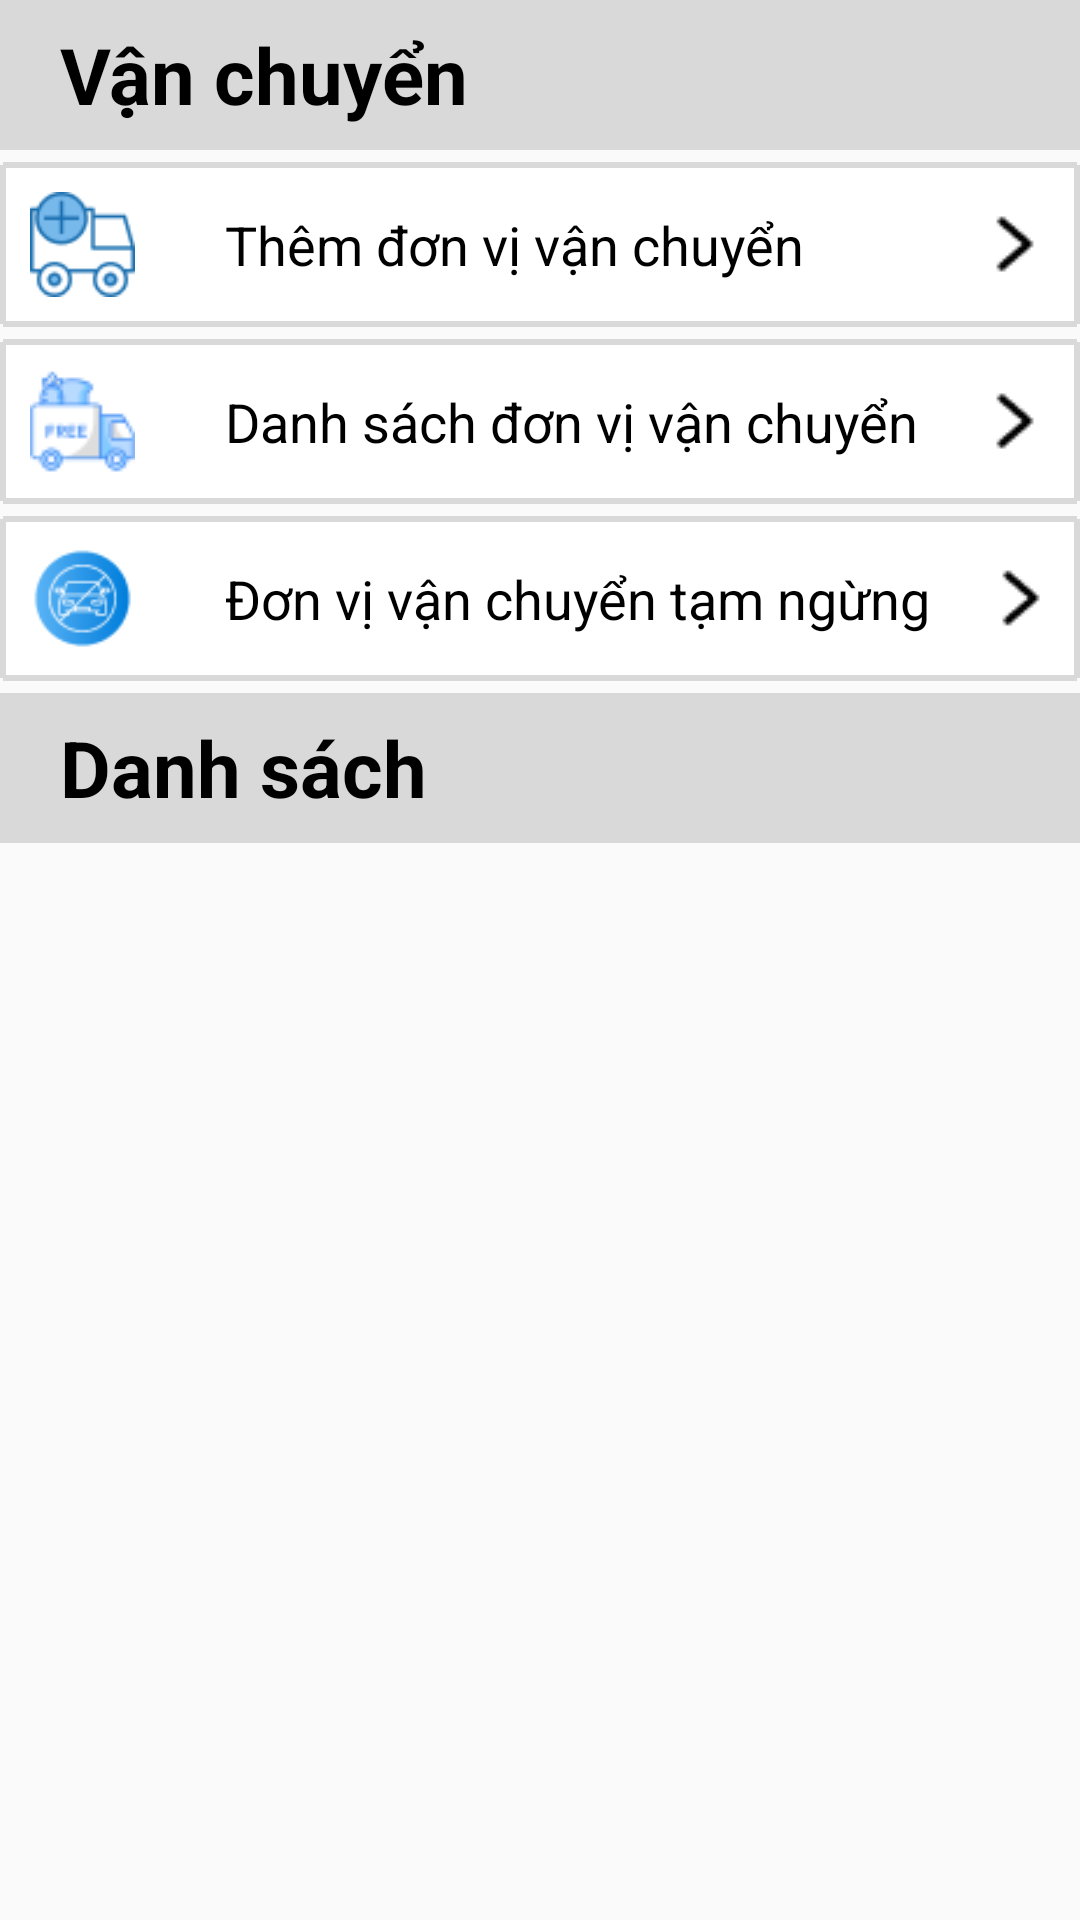

Named icons in this screenshot (1080px×1920px) and their bounding boxes, (x1,y1,x2,y2):
next: (996,216,1034,272), (996,393,1034,449), (1002,570,1040,626)
stop: (34,550,131,647)
